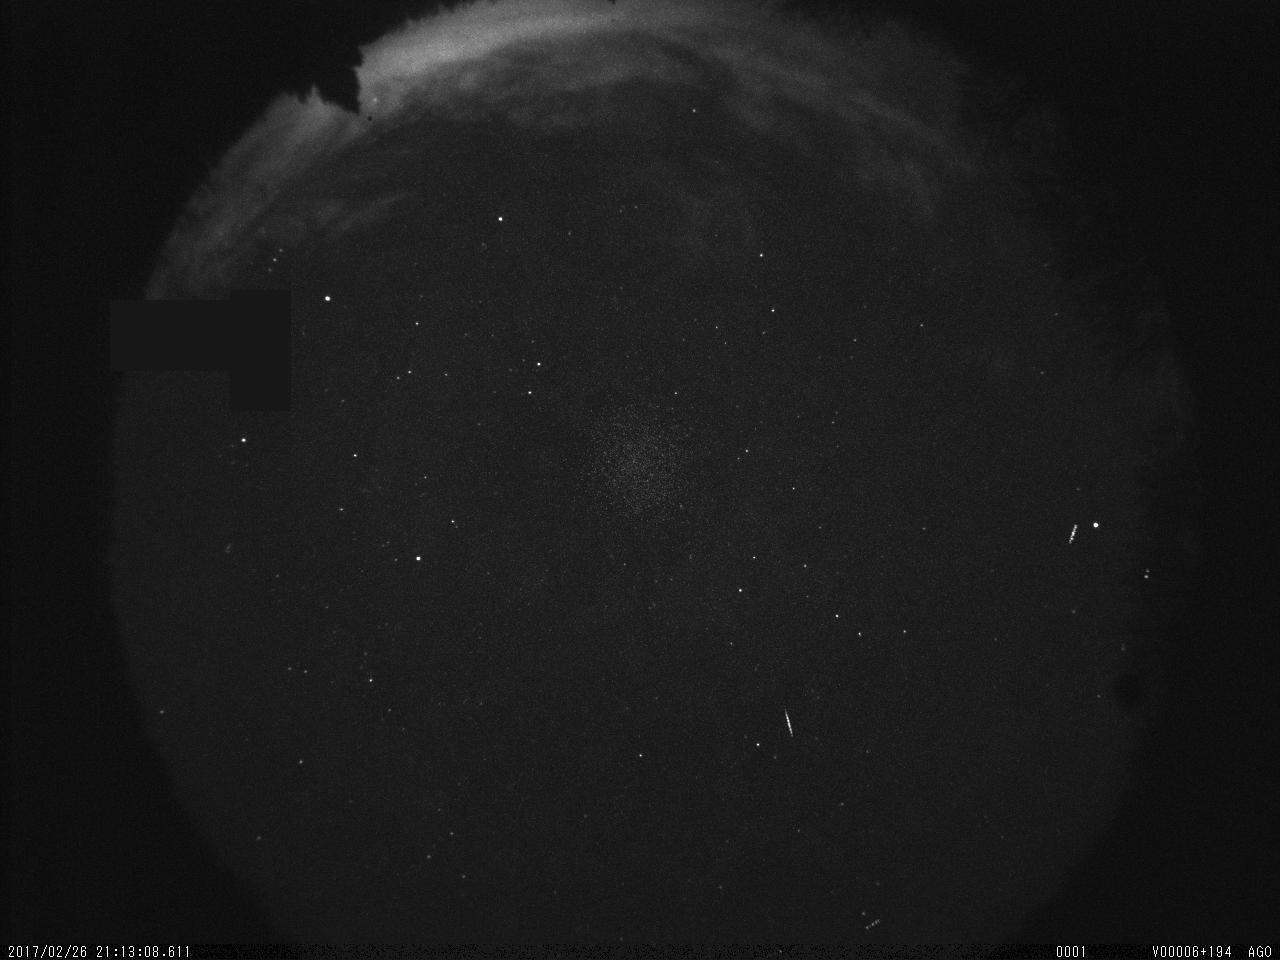meteor: (772, 701, 805, 743)
